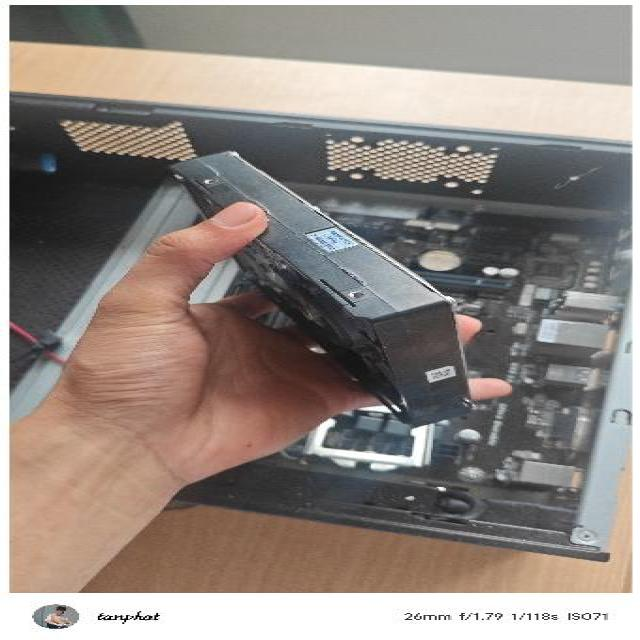DISK: (143, 143, 484, 430)
